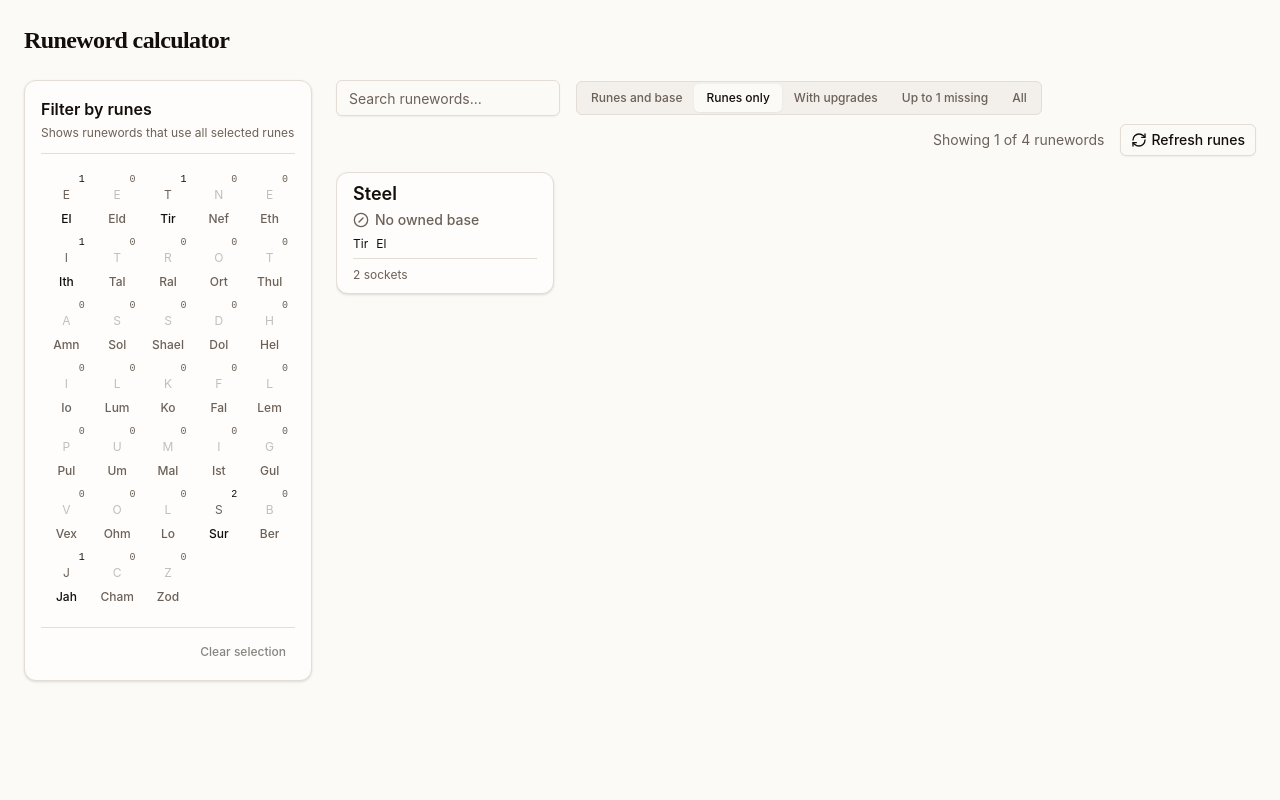
RunewordCalculator › readiness › When With upgrades is selected, then runewords the owned runes and gems can be cubed into show with their plan
Expected: the text "Showing 1 of 4 runewords" is shown, [933,130,1104,150]
Click the button "With upgrades".
click(836, 98)  # box [782,84,890,112]
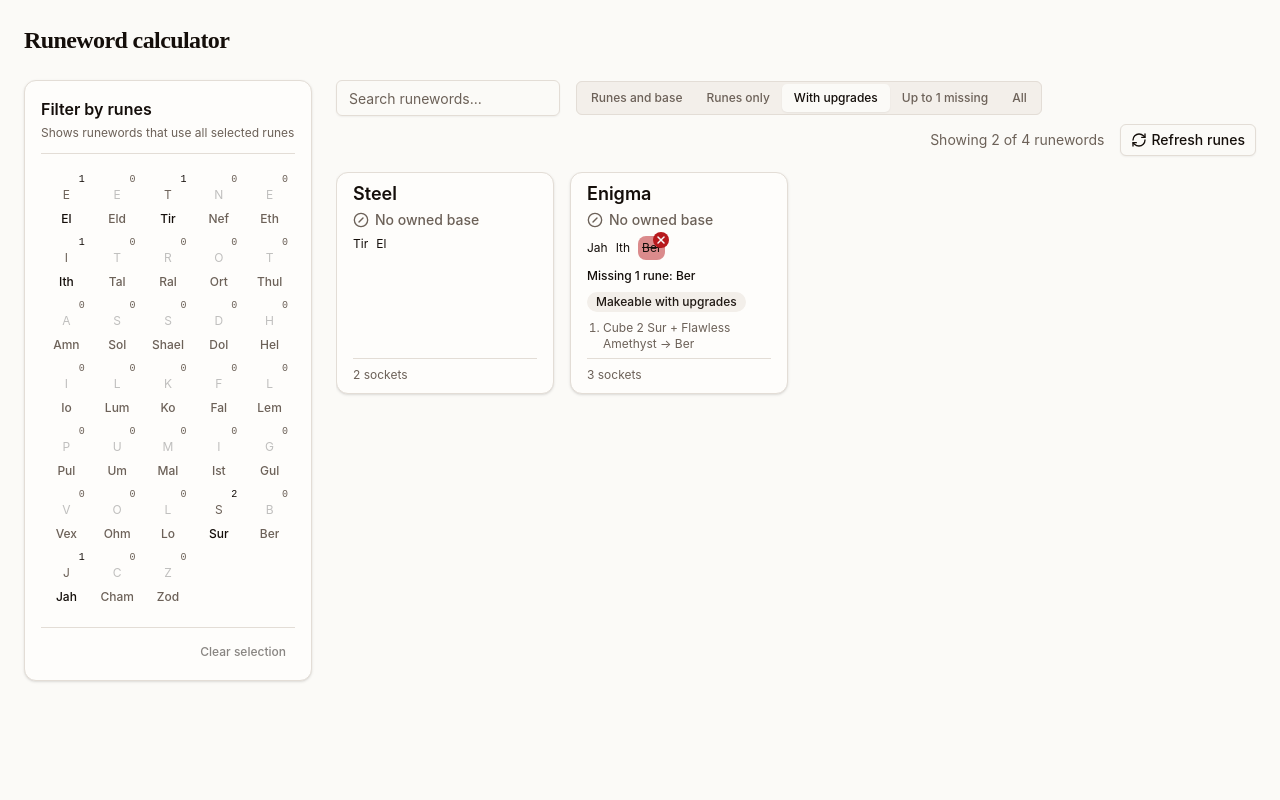
Now the text "Makeable with upgrades" is shown, box [587,292,746,312]
Now the list items read "Cube 2 Sur + Flawless Amethyst → Ber", in this order, box [603,320,730,350]
